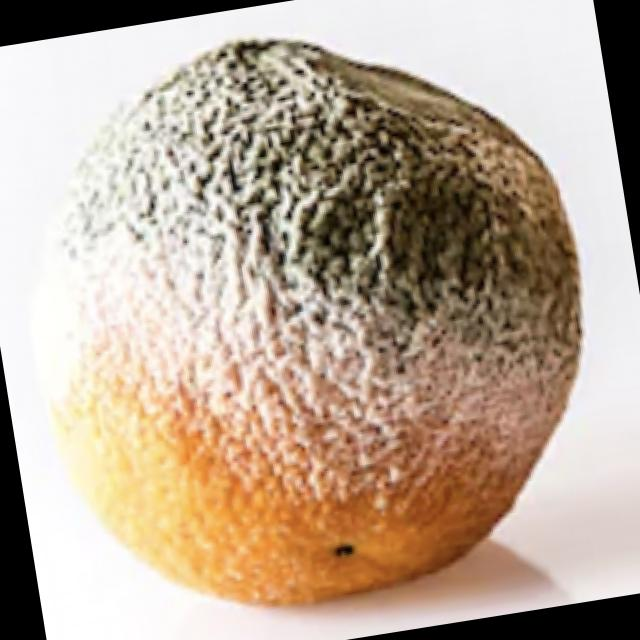rotten-orange: (0, 0, 631, 639)
